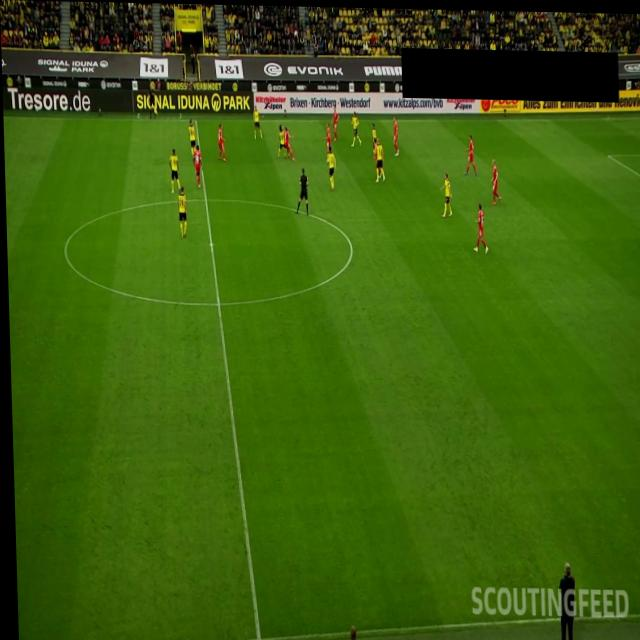player: (470, 200, 488, 252), (167, 147, 180, 194), (462, 132, 476, 174), (372, 136, 385, 181), (439, 171, 452, 216), (489, 156, 501, 203), (324, 144, 336, 189), (177, 184, 187, 238), (349, 109, 361, 146), (192, 143, 202, 187), (275, 123, 287, 158), (283, 124, 294, 160), (216, 123, 226, 161), (187, 118, 196, 157), (253, 104, 263, 139), (391, 113, 398, 154), (331, 106, 339, 140), (325, 121, 331, 153), (371, 121, 376, 149)
referee: (294, 166, 309, 214), (147, 84, 157, 120)
